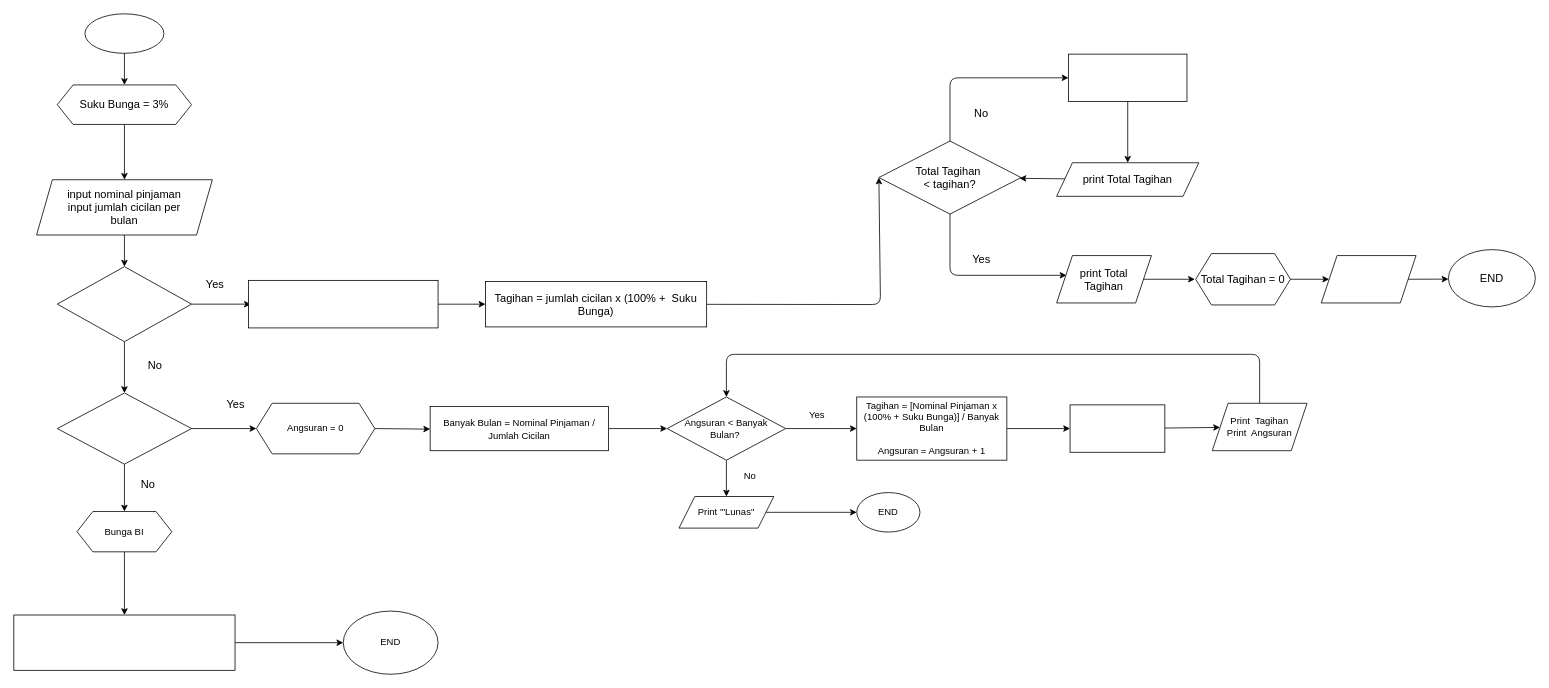
This 1549x688 diagram has some shape labels left out. Here are the shapes that lost their labels. From the top down, the box of each, then its label:
(84, 13, 164, 53): Start
(1068, 53, 1187, 102): Total Tagihan =Total Tagihan - Tagihan
(1320, 255, 1416, 303): Print "Lunas"
(56, 266, 192, 342): Bayar Cicilan Tetap?
(248, 280, 438, 328): Total Tagihan = Nominal Pinjaman x (100% + Suku Bunga)
(56, 392, 192, 464): Bayar Cicilan Menurun?
(1069, 404, 1165, 452): Nominal Pinjaman = Nominal Pinjaman - Tagihan
(13, 614, 235, 670): Tagihan = jumlah cicilan x (100% + Suku Bunga + Bunga BI)
